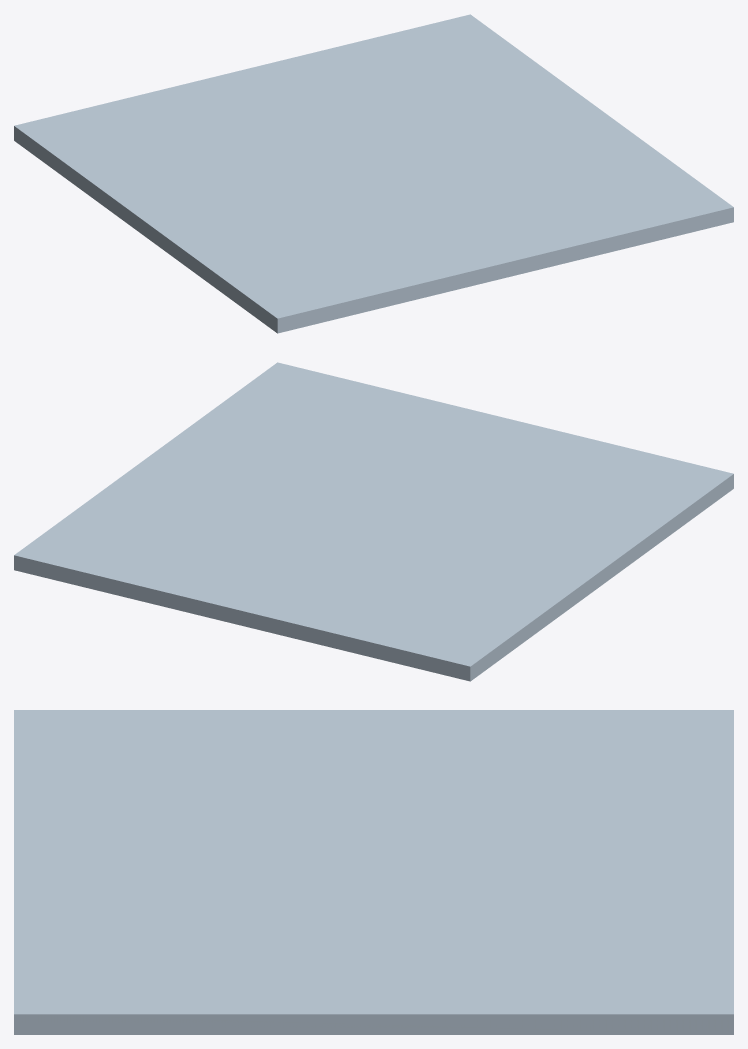
Rendered from map.gltf.
The picture shows the model from 3 angles, top to bottom: view 1: azimuth 30°, elevation 25°; view 2: azimuth 150°, elevation 25°; view 3: azimuth 270°, elevation 25°; orthographic projection. The views are drawn at different scales.
Parts seen in each view (by area): view 1: fine_ground; view 2: fine_ground; view 3: fine_ground.
Boxes of the visible parts, box(x1,y1,x2,y2) form: fine_ground: box(14, 14, 733, 333); fine_ground: box(14, 362, 733, 681); fine_ground: box(14, 710, 733, 1034).
Size of the model in its own units: 32 by 1 by 32.
